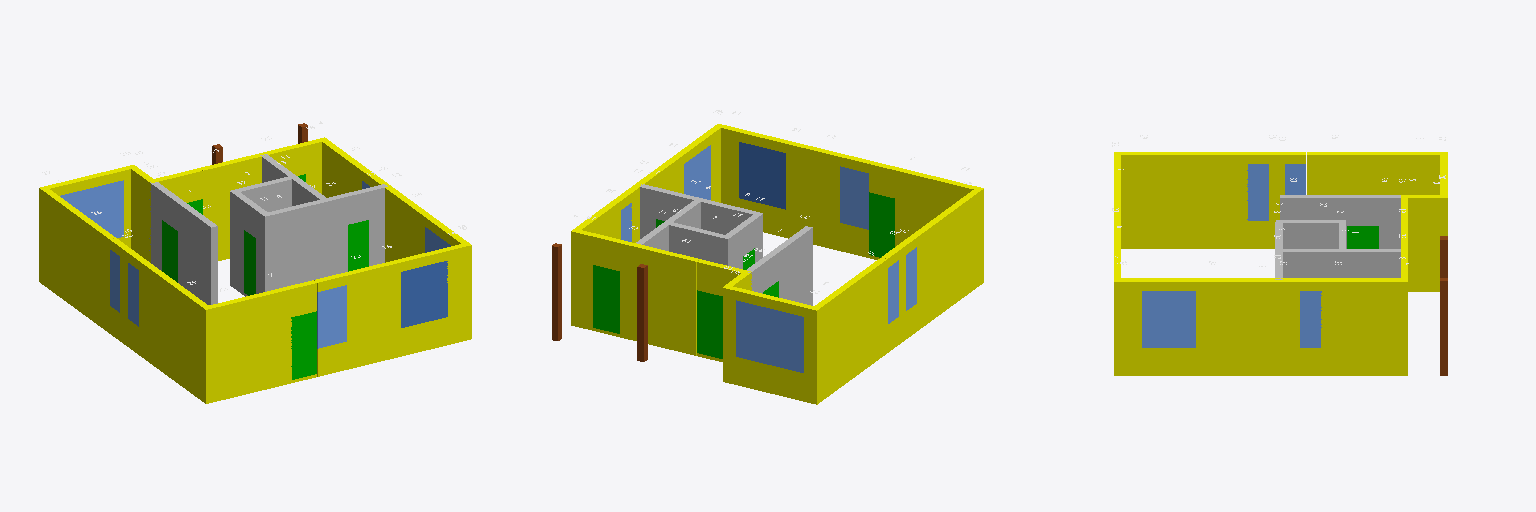
The model's file is wall_coordinates_3d.obj.
3 renders of one model, left to right at view 1: azimuth 30°, elevation 25°; view 2: azimuth 150°, elevation 25°; view 3: azimuth 270°, elevation 25°, orthographic.
Parts seen in each view (by area): view 1: Wall_3, Wall_15, Wall_12, Wall_1, Wall_26, Wall_18, Wall_4, External_window_window_2, Wall_9, Wall_0, Internal_window_window_1, Wall_11 (+28 smaller); view 2: Wall_15, Wall_12, Wall_4, Wall_1, Internal_window_window_1, Wall_3, External_window_window_2, Wall_18, Wall_6, Fill_Below_window_1, Internal_door_door_3, Internal_window_window_4 (+28 smaller); view 3: Wall_12, Wall_9, Wall_11, Wall_15, Wall_25, Internal_window_window_3, Wall_8, Wall_10, Wall_27, Wall_18, Wall_28, Fill_Below_window_3 (+15 smaller).
Boxes of the visible parts, x1=… form: Wall_3: x1=202, y1=286, x2=291, y2=403; Wall_15: x1=39, y1=186, x2=115, y2=333; Wall_12: x1=139, y1=260, x2=208, y2=401; Wall_1: x1=344, y1=260, x2=400, y2=369; Wall_26: x1=265, y1=200, x2=328, y2=290; Wall_18: x1=178, y1=202, x2=217, y2=304; Wall_4: x1=200, y1=153, x2=264, y2=260; External_window_window_2: x1=401, y1=261, x2=447, y2=327; Wall_9: x1=385, y1=185, x2=429, y2=262; Wall_0: x1=444, y1=242, x2=471, y2=344; Internal_window_window_1: x1=60, y1=180, x2=123, y2=237; Wall_11: x1=321, y1=139, x2=366, y2=197; Wall_15: x1=810, y1=258, x2=887, y2=404; Wall_12: x1=911, y1=190, x2=981, y2=330; Wall_4: x1=635, y1=244, x2=699, y2=355; Wall_1: x1=786, y1=141, x2=842, y2=250; Internal_window_window_1: x1=736, y1=300, x2=803, y2=372; Wall_3: x1=895, y1=168, x2=983, y2=283; External_window_window_2: x1=739, y1=142, x2=785, y2=209; Wall_18: x1=773, y1=226, x2=812, y2=305; Wall_6: x1=571, y1=229, x2=595, y2=330; Fill_Below_window_1: x1=736, y1=357, x2=803, y2=401; Internal_door_door_3: x1=593, y1=265, x2=619, y2=333; Internal_window_window_4: x1=840, y1=166, x2=868, y2=229; Wall_12: x1=1119, y1=152, x2=1247, y2=248; Wall_9: x1=1196, y1=278, x2=1278, y2=375; Wall_11: x1=1321, y1=278, x2=1403, y2=375; Wall_15: x1=1307, y1=152, x2=1447, y2=194; Wall_25: x1=1408, y1=195, x2=1443, y2=291; Internal_window_window_3: x1=1142, y1=291, x2=1195, y2=347; Wall_8: x1=1118, y1=278, x2=1141, y2=375; Wall_10: x1=1279, y1=278, x2=1299, y2=375; Wall_27: x1=1283, y1=249, x2=1342, y2=277; Wall_18: x1=1280, y1=195, x2=1346, y2=248; Wall_28: x1=1343, y1=249, x2=1400, y2=277; Fill_Below_window_3: x1=1142, y1=348, x2=1195, y2=375.
Size of the model in its own units: 9.06 by 3.5 by 9.69.